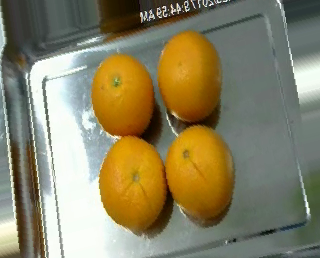Orange: (165, 125, 235, 220), (98, 134, 166, 228), (156, 30, 221, 122), (91, 54, 155, 136)
